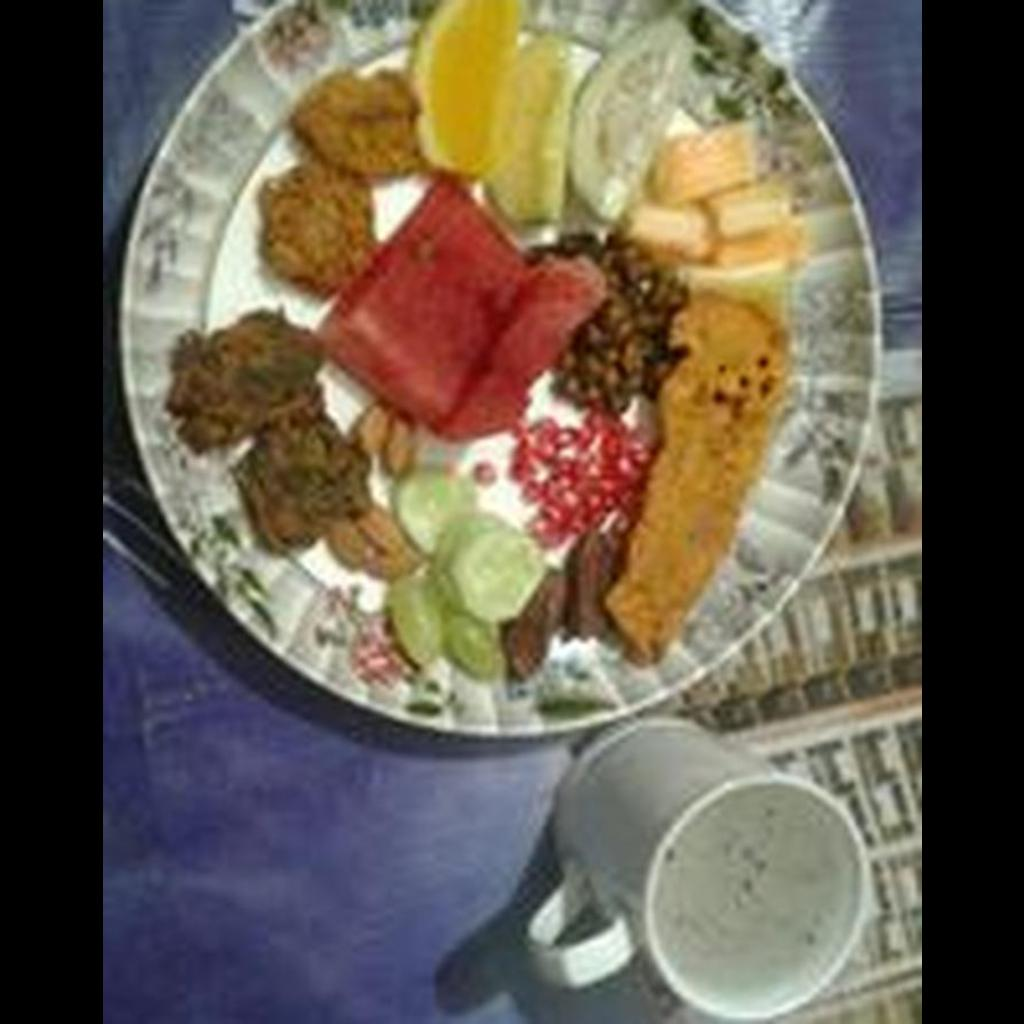beguni: (608, 290, 782, 654)
guava: (573, 17, 690, 226)
orange: (412, 1, 518, 169)
peyaju: (252, 69, 417, 288)
watermelon: (323, 183, 607, 442)
